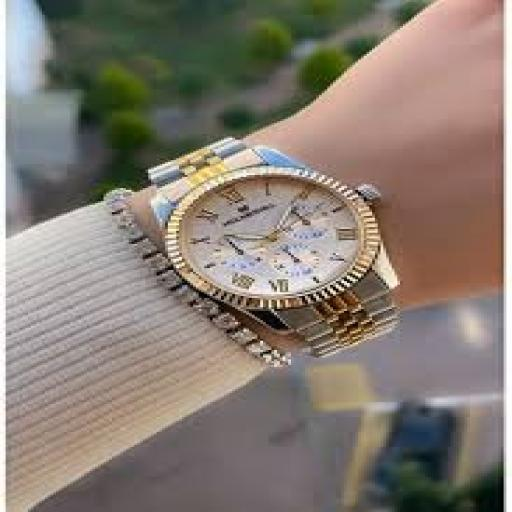KolSaati: (95, 124, 439, 356)
